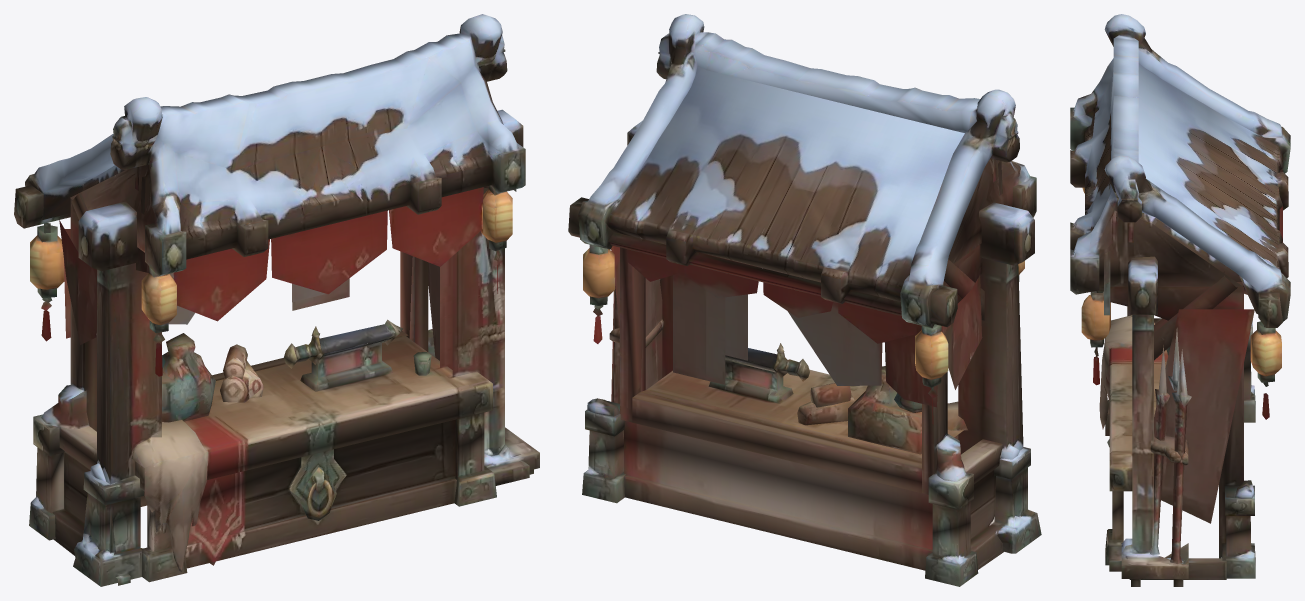
The model's file is SM_Tripo_FrostMarketStall.glb.
3 views of the same model, side by side, from view 1: azimuth 30°, elevation 25°; view 2: azimuth 150°, elevation 25°; view 3: azimuth 270°, elevation 25° (orthographic). The views are drawn at different scales.
Parts seen in each view (by area): view 1: SM_Tripo_FrostMarketStall_LOD0; view 2: SM_Tripo_FrostMarketStall_LOD0; view 3: SM_Tripo_FrostMarketStall_LOD0.
Boxes of the visible parts, x1,y1,x2,y2 form: SM_Tripo_FrostMarketStall_LOD0: (14, 14, 539, 586); SM_Tripo_FrostMarketStall_LOD0: (568, 14, 1041, 586); SM_Tripo_FrostMarketStall_LOD0: (1070, 14, 1290, 586).
Bounding box in the file's own units: 3.08 × 3.2 × 1.56.
Materials: 1 (1 with a texture image).
